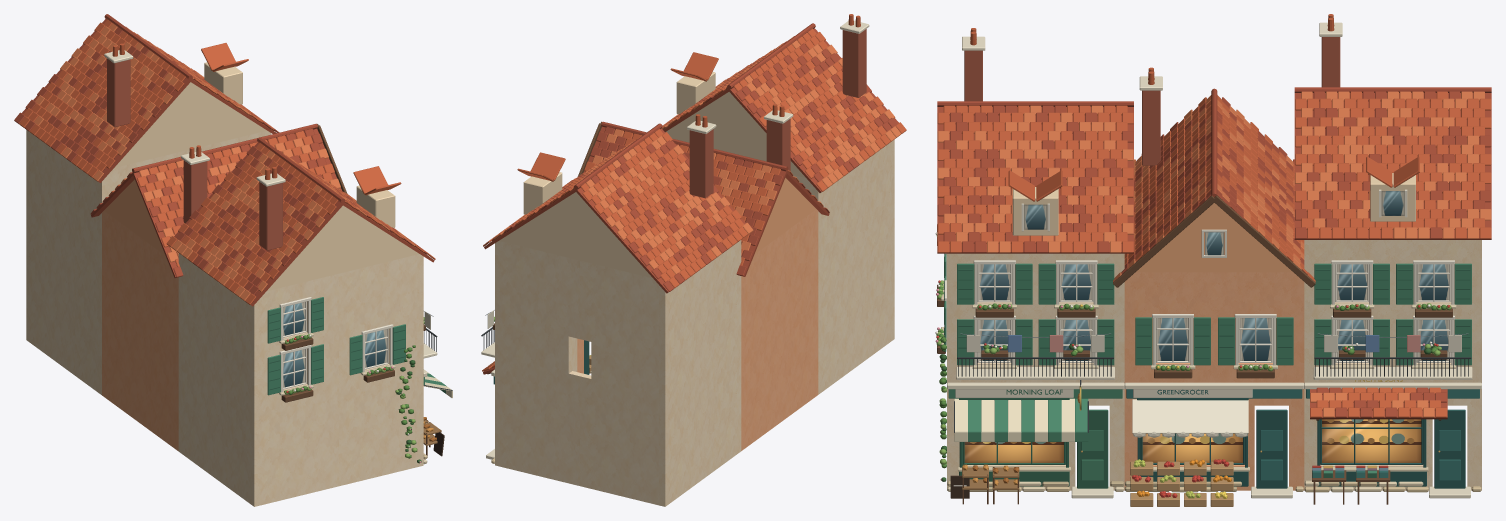
The picture shows the model from 3 angles, left to right: view 1: azimuth 30°, elevation 25°; view 2: azimuth 150°, elevation 25°; view 3: azimuth 270°, elevation 25°; orthographic projection. The views are drawn at different scales.
Visible parts, largest first — view 1: square_plaster, square_terracotta, square_salmon, square_terracotta_dark, square_terracotta_light, square_brick, square_shutter, square_window_pane, square_white, square_wood_dark, square_limestone_pale, square_leaf; view 2: square_plaster, square_terracotta, square_salmon, square_terracotta_dark, square_terracotta_light, square_brick, square_limestone_pale; view 3: square_terracotta, square_terracotta_dark, square_plaster, square_salmon, square_terracotta_light, square_shutter, square_window_pane, square_limestone_pale, square_white, square_window_shop, square_teal_dark, square_wood_dark (+15 smaller).
Part boxes in pixels (box(x1,y1,x2,y2)): square_plaster: box(26, 62, 423, 506); square_terracotta: box(19, 19, 435, 304); square_salmon: box(102, 179, 178, 451); square_terracotta_dark: box(14, 14, 434, 306); square_terracotta_light: box(34, 23, 416, 301); square_brick: box(107, 58, 282, 250); square_shutter: box(267, 297, 446, 395); square_window_pane: box(283, 302, 386, 387); square_white: box(279, 297, 393, 392); square_wood_dark: box(281, 124, 441, 455); square_limestone_pale: box(104, 50, 437, 376); square_leaf: box(288, 335, 415, 458); square_plaster: box(495, 72, 894, 506); square_terracotta: box(482, 14, 906, 371); square_salmon: box(577, 178, 818, 450); square_terracotta_dark: box(483, 23, 898, 374); square_terracotta_light: box(488, 36, 901, 366); square_brick: box(689, 29, 866, 198); square_limestone_pale: box(481, 20, 869, 459); square_terracotta: box(937, 14, 1491, 417); square_terracotta_dark: box(937, 87, 1491, 419); square_plaster: box(947, 173, 1481, 490); square_salmon: box(1124, 203, 1304, 490); square_terracotta_light: box(937, 91, 1491, 417); square_shutter: box(944, 254, 1471, 480); square_window_pane: box(979, 191, 1449, 360); square_limestone_pale: box(947, 22, 1481, 498); square_white: box(944, 189, 1454, 365); square_window_shop: box(964, 419, 1421, 462); square_teal_dark: box(1137, 389, 1465, 488); square_wood_dark: box(937, 195, 1452, 504).
Bounding box in the file's own units: 7.5 × 11.34 × 14.55.
49 materials, 4 textured.
